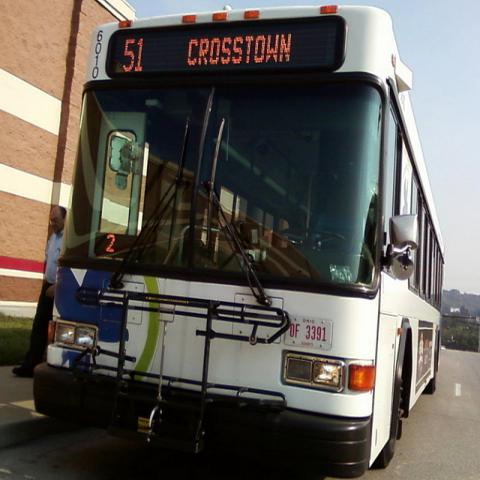bus: (36, 5, 446, 473)
